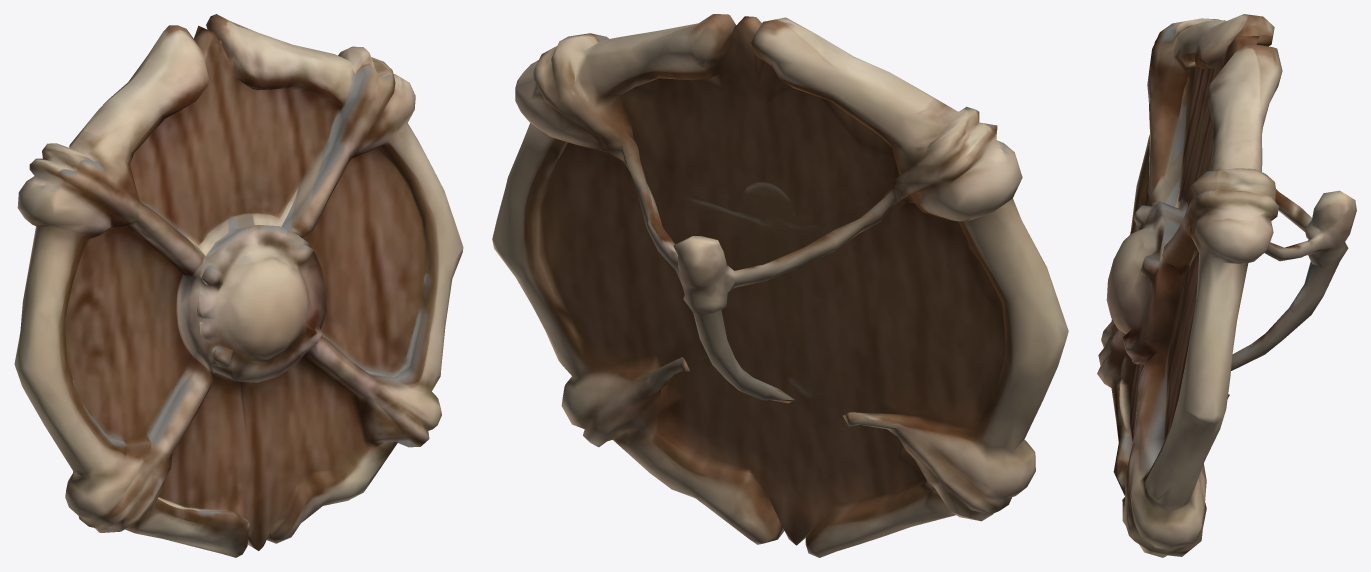
The model's file is shield.glb.
The picture shows the model from 3 angles, left to right: view 1: azimuth 30°, elevation 25°; view 2: azimuth 150°, elevation 25°; view 3: azimuth 270°, elevation 25°; orthographic projection. The views are drawn at different scales.
Visible parts, largest first — view 1: tripo_node_19c7cb2f-008c-4c92-8530-82f5afc3bdc3; view 2: tripo_node_19c7cb2f-008c-4c92-8530-82f5afc3bdc3; view 3: tripo_node_19c7cb2f-008c-4c92-8530-82f5afc3bdc3.
Boxes of the visible parts, x1,y1,x2,y2 form: tripo_node_19c7cb2f-008c-4c92-8530-82f5afc3bdc3: [14, 14, 463, 557]; tripo_node_19c7cb2f-008c-4c92-8530-82f5afc3bdc3: [492, 14, 1068, 557]; tripo_node_19c7cb2f-008c-4c92-8530-82f5afc3bdc3: [1097, 14, 1356, 557].
Bounding box in the file's own units: 0.9845 × 1 × 0.4653.
Materials: 1 (1 with a texture image).
